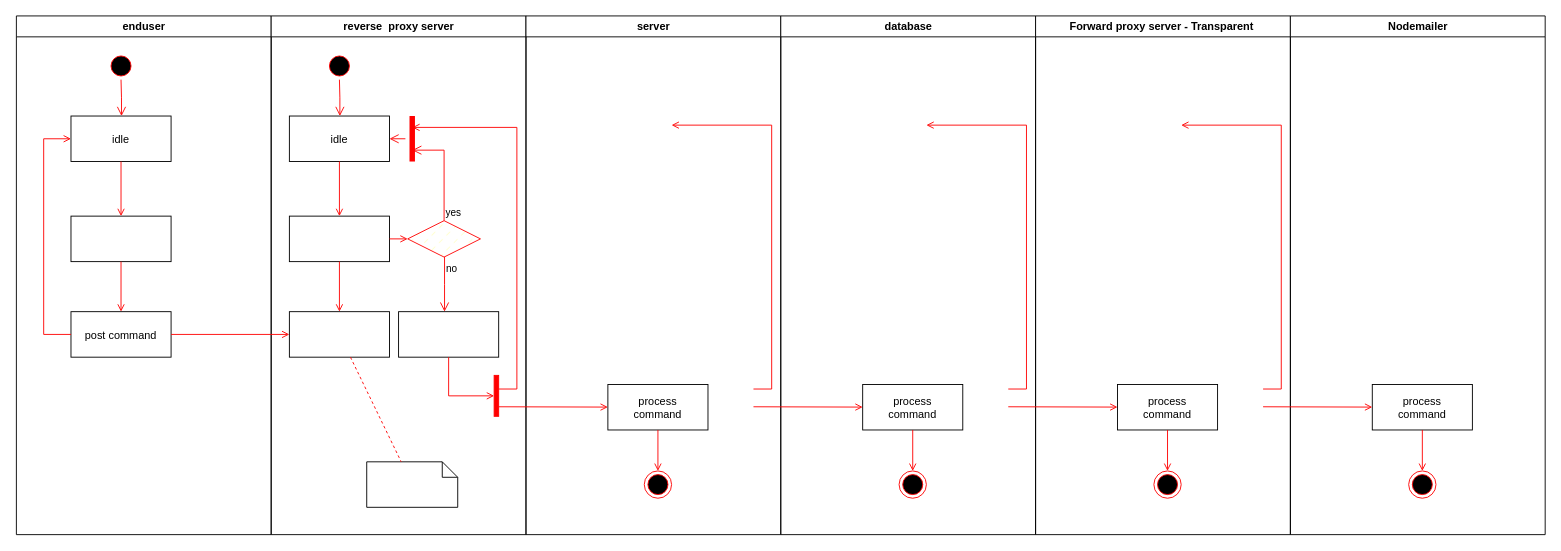
The diagram is 1561 pixels wide and 551 high, and some of its shapes have lost their labels. The shapes that lost their labels are listed below. From the top down, each one's centre as x and y in pixels, then its label:
At (x=120, y=238): "user action".
At (x=338, y=238): "check for new commands".
At (x=443, y=238): "queue empty".
At (x=338, y=334): "command queue".
At (x=448, y=334): "dispatch command worker thread".
At (x=412, y=484): "critical section".
